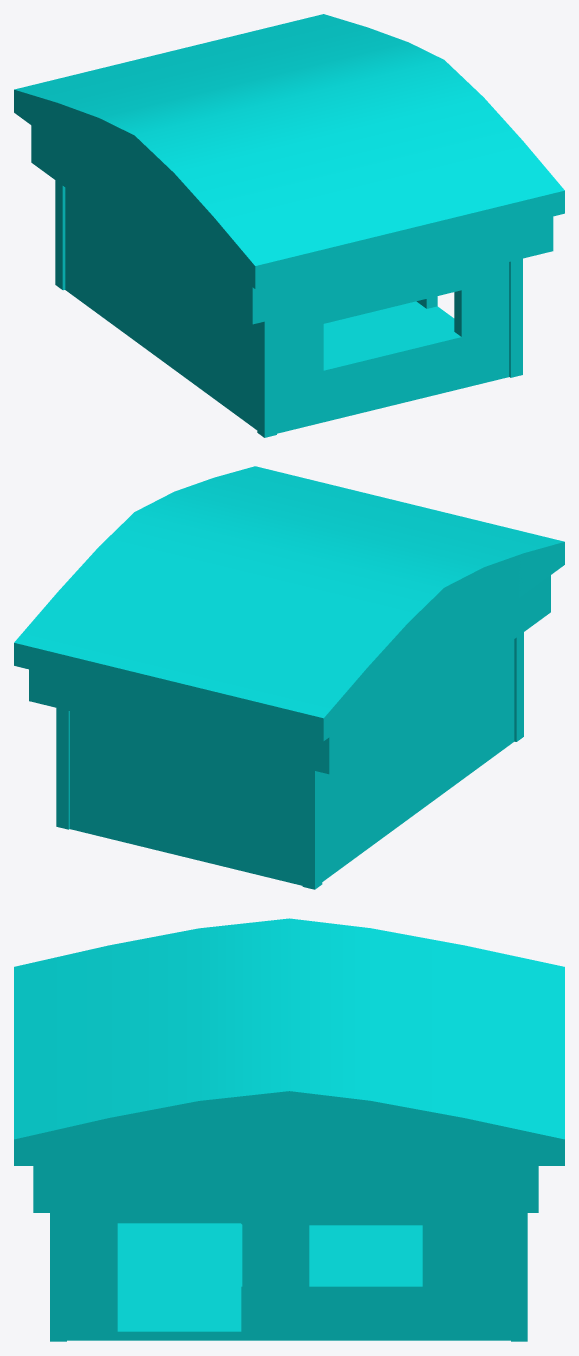
File: SM_Bld_Building_11_Collision.fbx
The picture shows the model from 3 angles, top to bottom: view 1: azimuth 30°, elevation 25°; view 2: azimuth 150°, elevation 25°; view 3: azimuth 270°, elevation 25°; orthographic projection. The views are drawn at different scales.
Parts seen in each view (by area): view 1: SM_Bld_Building_11_Collision; view 2: SM_Bld_Building_11_Collision; view 3: SM_Bld_Building_11_Collision.
Part boxes in pixels (<box>): SM_Bld_Building_11_Collision: <box>14,14,564,437</box>; SM_Bld_Building_11_Collision: <box>14,466,564,889</box>; SM_Bld_Building_11_Collision: <box>14,918,564,1341</box>.
Size of the model in its own units: 698 by 500 by 942.
